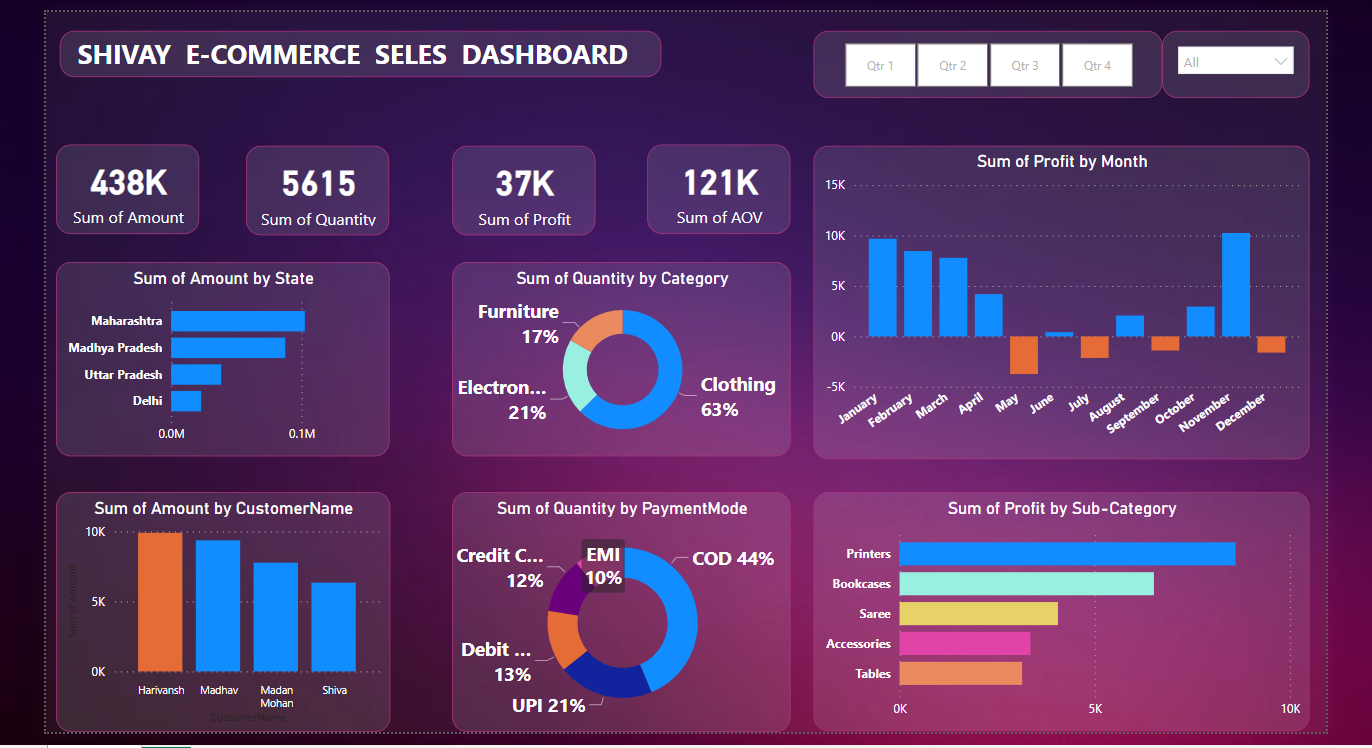

What the dashboard file says about the page in this screenshot:
{"tool":"powerbi","page":{"name":"Page 1","canvas":[1280,720],"ordinal":0},"visuals":[{"type":"textbox","box":[13.7,19.2,601.7,46.7],"z":0},{"type":"columnChart","fields":{"Category":["Orders.Order Date.Variation.Date Hierarchy.Month"],"Y":["Details.Profit"]},"box":[767.9,133.2,495.9,313.2],"z":1000},{"type":"clusteredBarChart","fields":{"Category":["Details.Sub-Category"],"Y":["Details.Profit"]},"box":[767.9,479.4,495.9,239],"z":2000},{"type":"donutChart","fields":{"Category":["Details.Category"],"Y":["Details.Quantity"]},"box":[405.8,250.6,338.6,194.4],"z":3000},{"type":"donutChart","fields":{"Category":["Details.PaymentMode"],"Y":["Details.Quantity"]},"box":[415.6,480.4,328.8,239.6],"z":4000},{"type":"card","fields":{"Values":["Details.AOV"]},"box":[601.4,132,143,89.2],"z":5000},{"type":"card","fields":{"Values":["Details.Profit"]},"box":[405.8,133.2,143,89.2],"z":6000},{"type":"card","fields":{"Values":["Details.Quantity"]},"box":[200.5,133.2,143,89.2],"z":7000},{"type":"card","fields":{"Values":["Details.Amount"]},"box":[9.8,132,143,89.2],"z":8000},{"type":"clusteredBarChart","fields":{"Category":["Orders.State"],"Y":["Details.Amount"]},"box":[9.8,250.6,333.7,194.4],"z":9000},{"type":"columnChart","fields":{"Category":["Orders.CustomerName"],"Y":["Details.Amount"]},"box":[10,480,334,240],"z":10000},{"type":"slicer","fields":{"Values":["Orders.Order Date.Variation.Date Hierarchy.Quarter"]},"box":[767.9,19.2,348.9,67.3],"z":11000},{"type":"slicer","fields":{"Values":["Orders.State"]},"box":[1116.8,19.2,147,67.3],"z":11001}]}

Visuals, with their boxes on the page's 1280x720 design canvas (x1, y1, x2, y2). These are canvas units, not pixel positions in the 1372x748 screenshot, which may show the page scaled, cropped or inside an application window:
textbox: x1=14, y1=19, x2=615, y2=66
columnChart - Orders.Order Date.Variation.Date Hierarchy.Month x Details.Profit: x1=768, y1=133, x2=1264, y2=446
clusteredBarChart - Details.Sub-Category x Details.Profit: x1=768, y1=479, x2=1264, y2=718
donutChart - Details.Category x Details.Quantity: x1=406, y1=251, x2=744, y2=445
donutChart - Details.PaymentMode x Details.Quantity: x1=416, y1=480, x2=744, y2=720
card - Details.AOV: x1=601, y1=132, x2=744, y2=221
card - Details.Profit: x1=406, y1=133, x2=549, y2=222
card - Details.Quantity: x1=200, y1=133, x2=344, y2=222
card - Details.Amount: x1=10, y1=132, x2=153, y2=221
clusteredBarChart - Orders.State x Details.Amount: x1=10, y1=251, x2=344, y2=445
columnChart - Orders.CustomerName x Details.Amount: x1=10, y1=480, x2=344, y2=720
slicer - Orders.Order Date.Variation.Date Hierarchy.Quarter: x1=768, y1=19, x2=1117, y2=86
slicer - Orders.State: x1=1117, y1=19, x2=1264, y2=86
